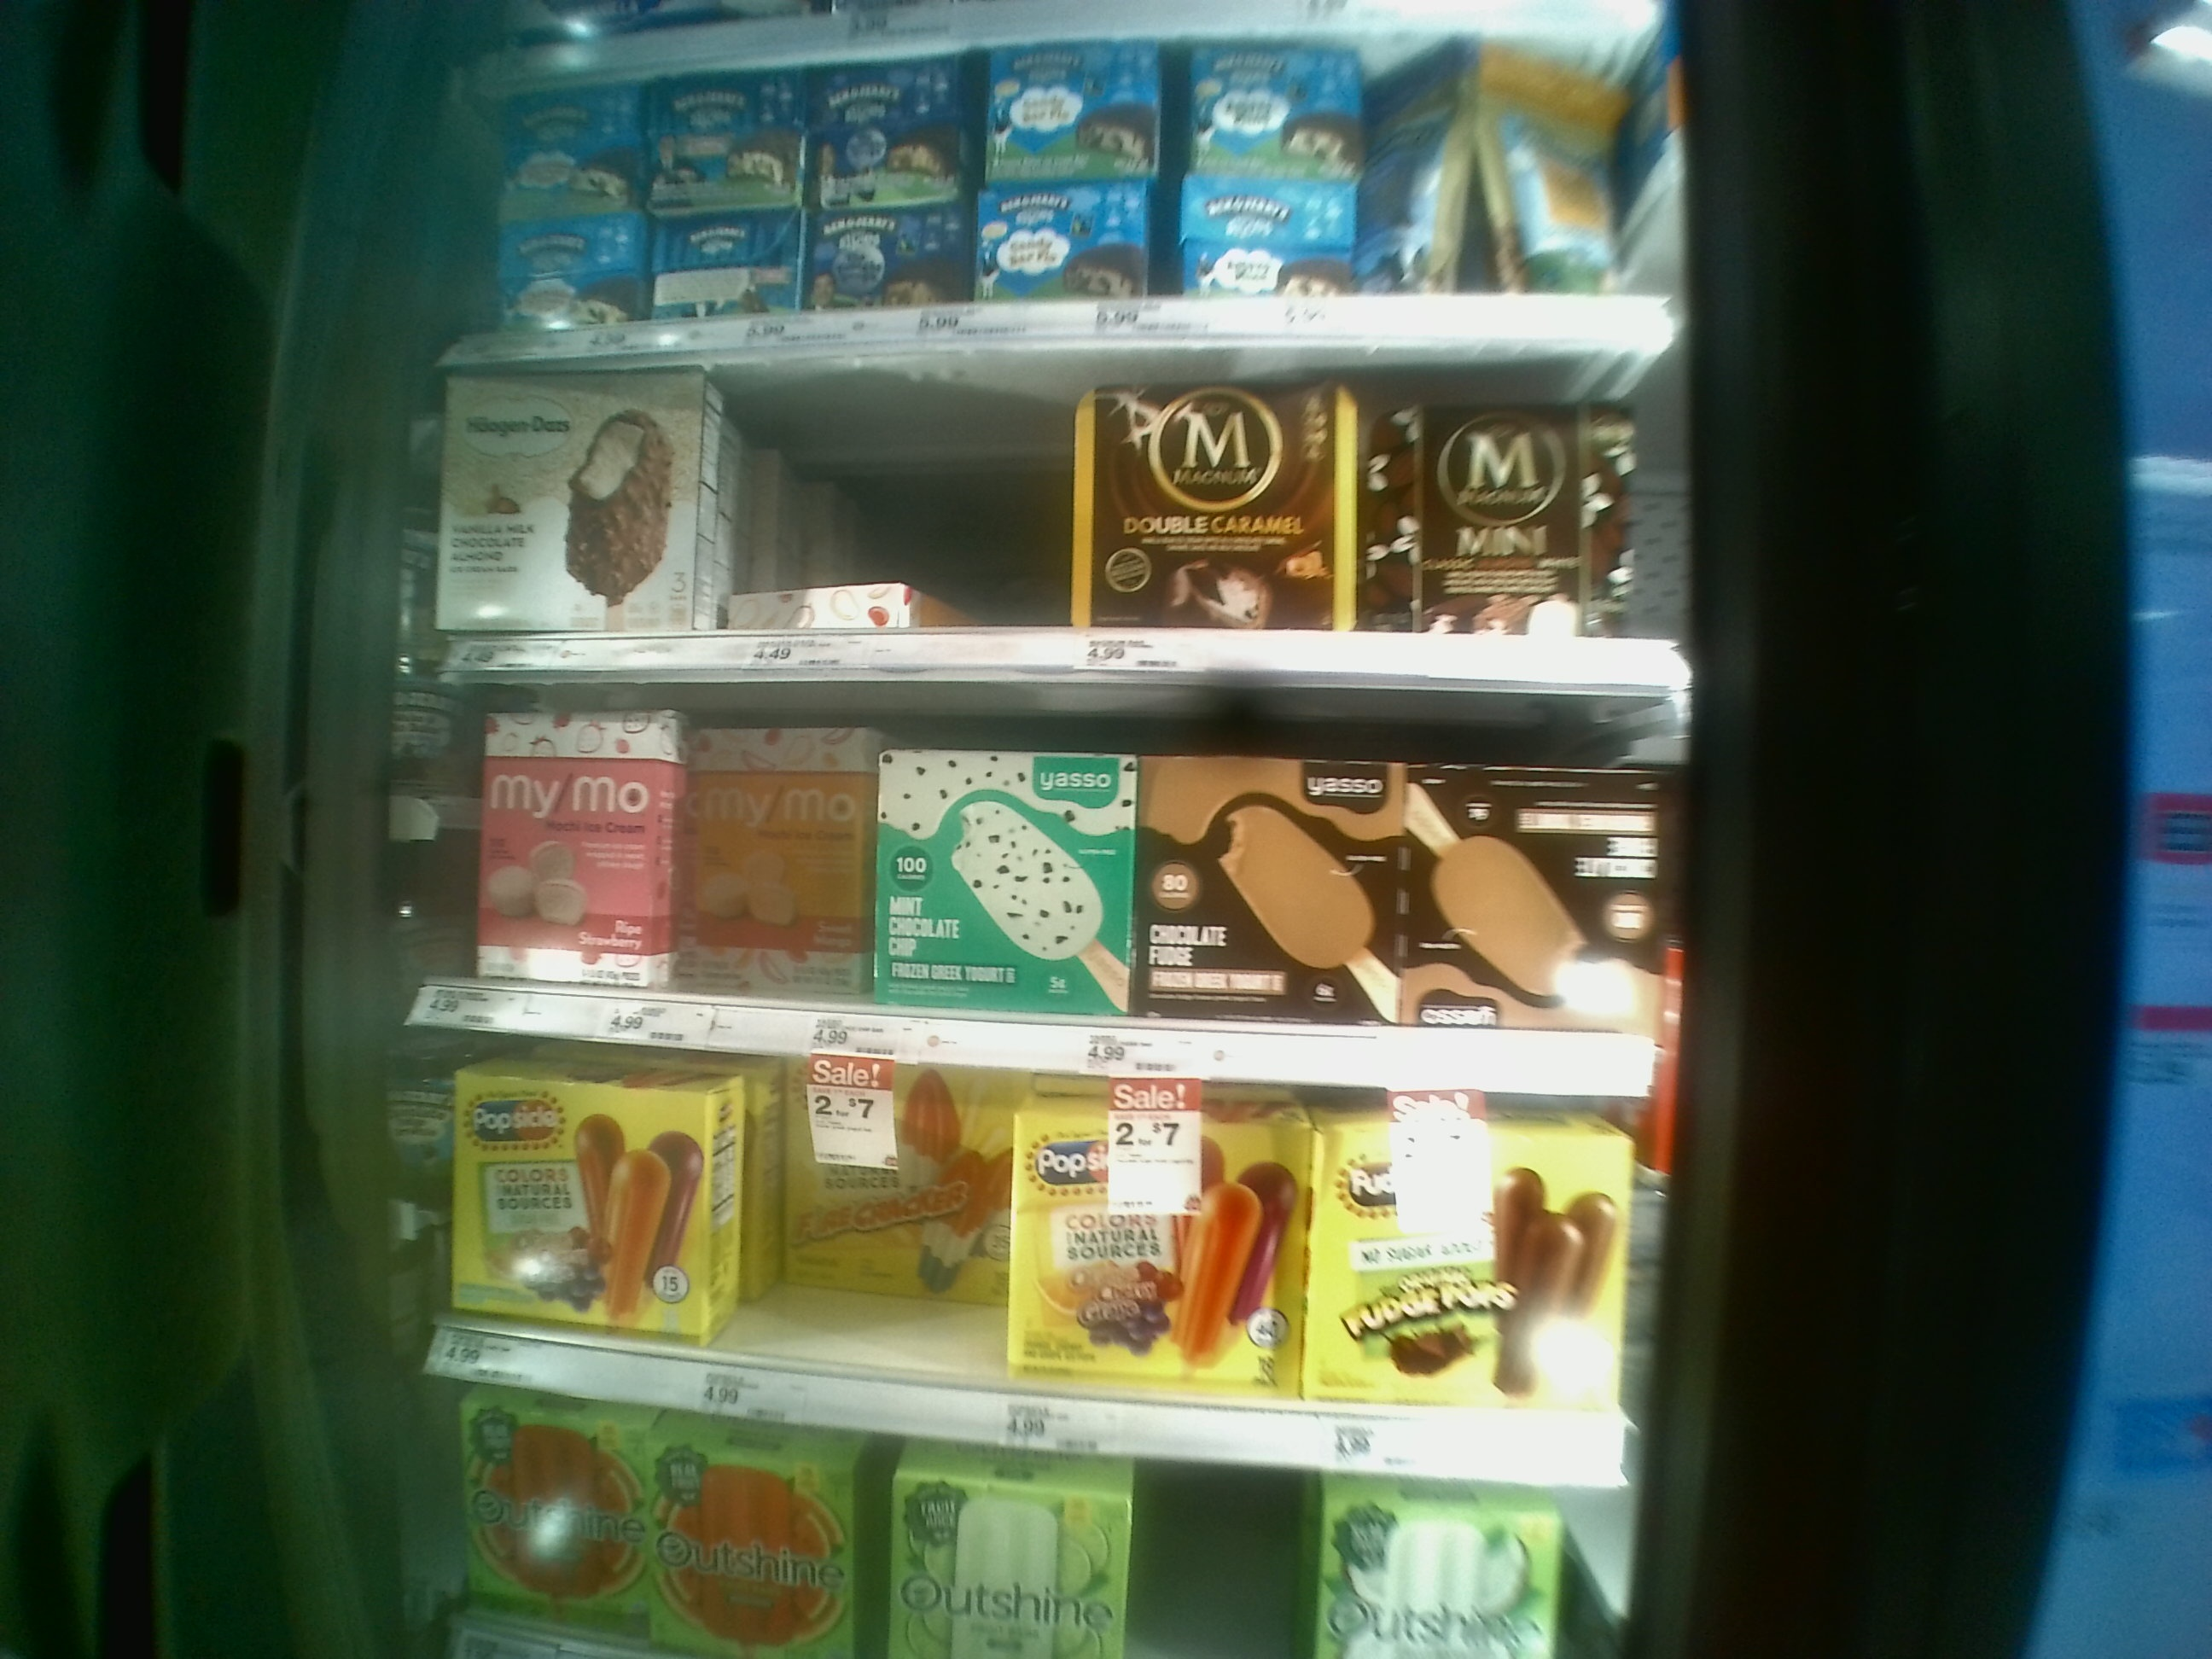ice-cream-shelf: (435, 350, 1686, 692), (441, 54, 1681, 340)
